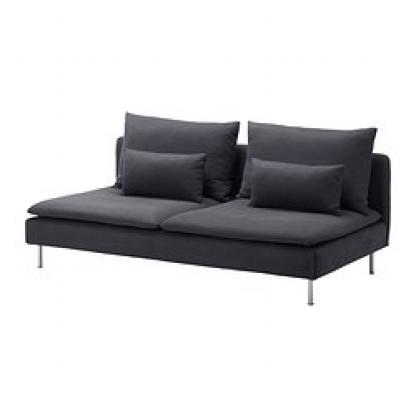Sofa: (17, 96, 396, 320)
